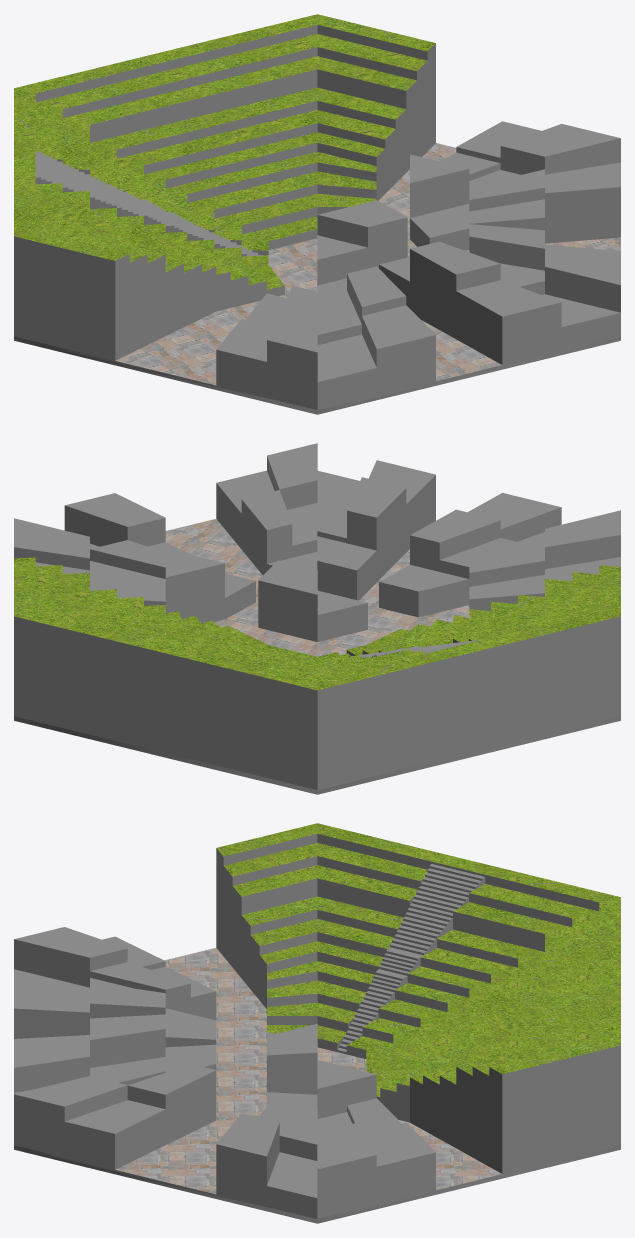
3 renders of one model, top to bottom at view 1: azimuth 30°, elevation 25°; view 2: azimuth 150°, elevation 25°; view 3: azimuth 270°, elevation 25°, orthographic.
Visible parts, largest first — view 1: Cylinder030; view 2: Cylinder030; view 3: Cylinder030.
Boxes of the visible parts, left/top/right/bottom form: Cylinder030: left=14, top=14, right=620, bottom=414; Cylinder030: left=14, top=443, right=620, bottom=794; Cylinder030: left=14, top=823, right=620, bottom=1223.
Bounding box in the file's own units: 140 × 23 × 121.
Materials: 5 (2 with a texture image).
